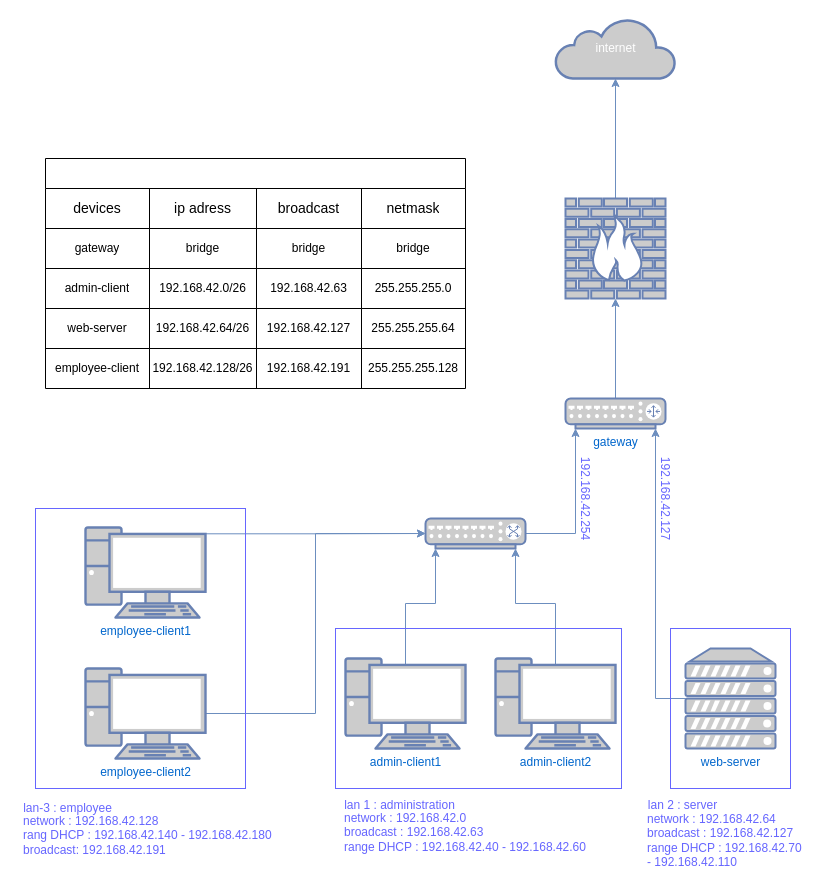
Some shapes in this 832 by 887 pixel diagram are drawn without their labels. Each missing label, with the box of its shape:
firewall: (564, 197, 666, 299)
IP Table: (44, 158, 466, 388)
switch: (424, 517, 526, 549)
